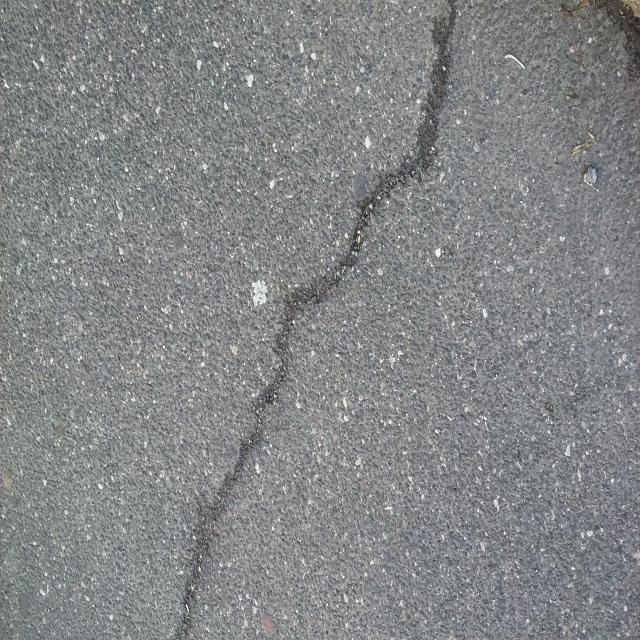Longitudial: (123, 2, 494, 640)
